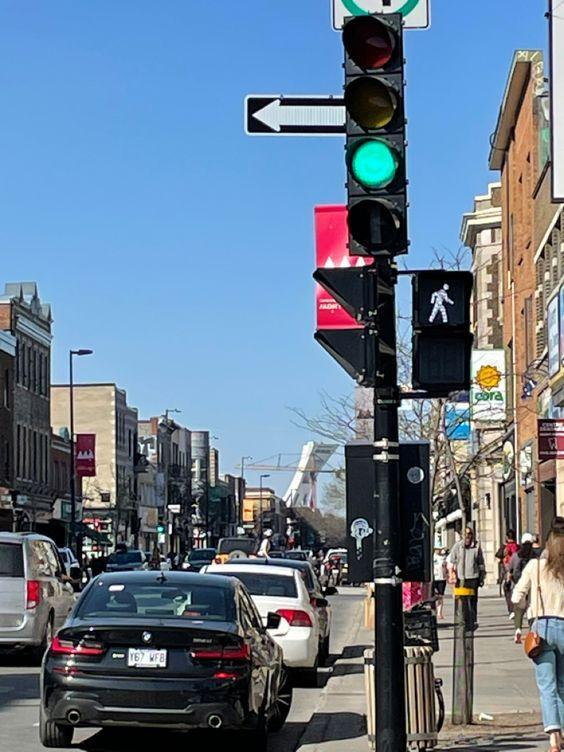green: (328, 8, 422, 254)
